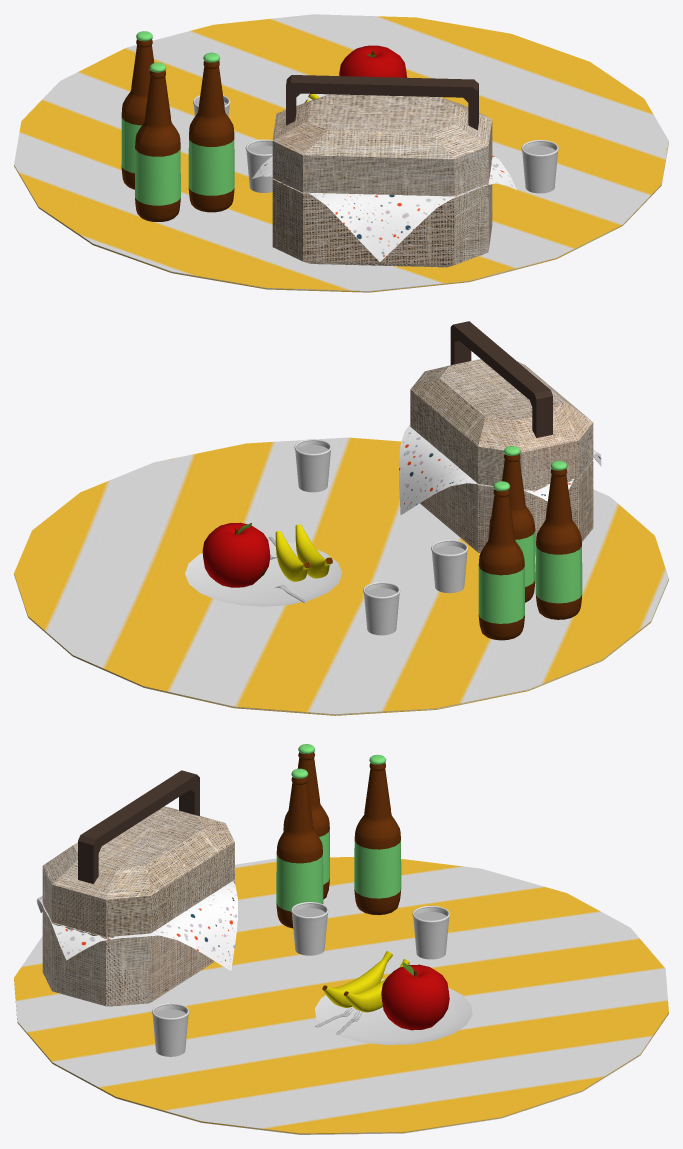
3 views of the same model, one above another, from view 1: azimuth 30°, elevation 25°; view 2: azimuth 150°, elevation 25°; view 3: azimuth 270°, elevation 25° (orthographic).
Visible parts, largest first — view 1: polySurface318; view 2: polySurface318; view 3: polySurface318.
Boxes of the visible parts, x1=… form: polySurface318: x1=14, y1=14, x2=668, y2=292; polySurface318: x1=14, y1=321, x2=668, y2=715; polySurface318: x1=14, y1=744, x2=668, y2=1134.
Size of the model in its own units: 0.4557 by 0.1252 by 0.4557.
Materials: 17 (4 with a texture image).
